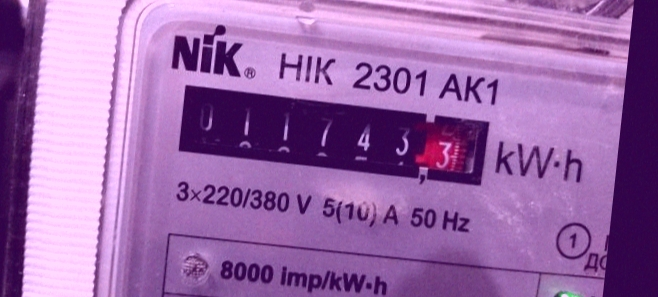0: (194, 96, 216, 134)
1: (276, 106, 295, 141), (240, 102, 253, 136)
3: (389, 121, 412, 158), (432, 137, 453, 172)
4: (353, 117, 373, 152)
7: (314, 112, 335, 147)
screen: (161, 70, 503, 199)
